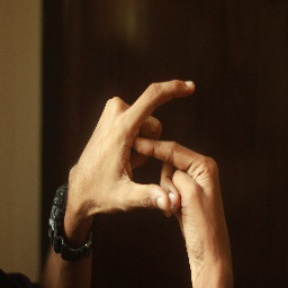E: (111, 68, 220, 218)
